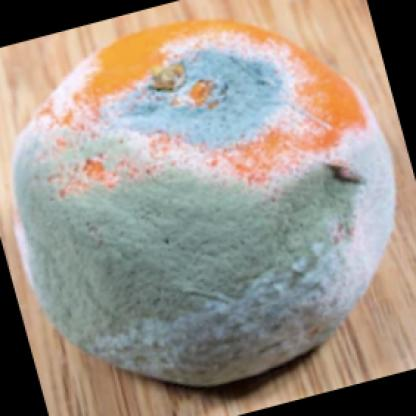rotten: (13, 22, 397, 387)
